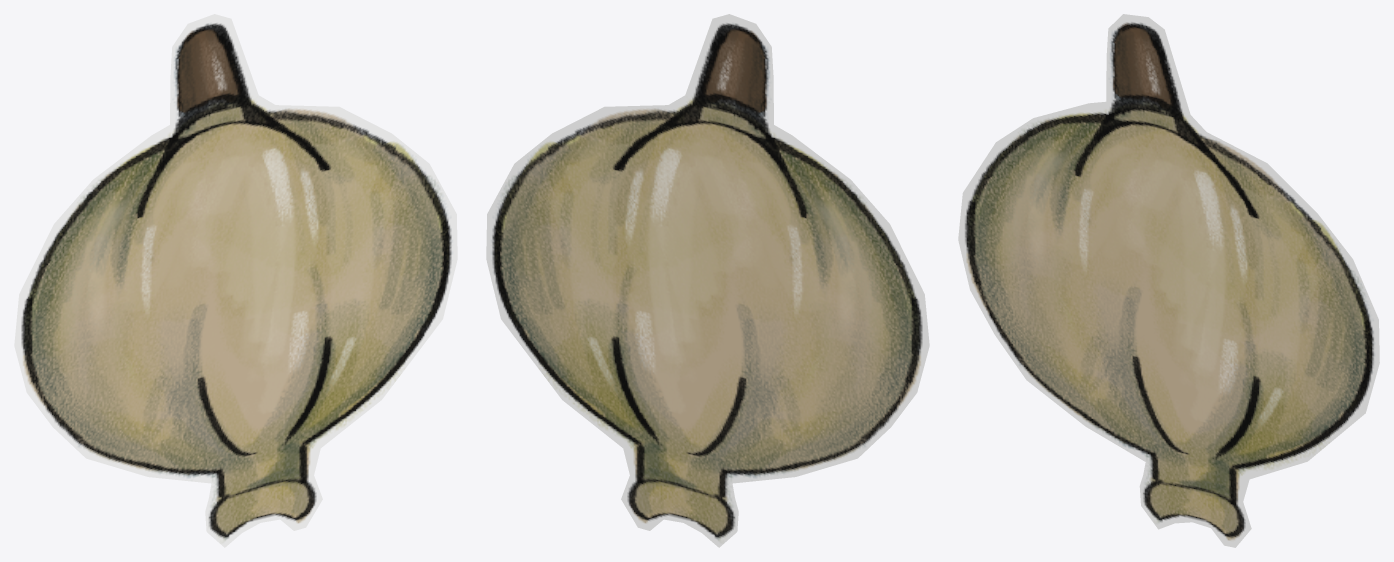
File: mech.glb
3 views of the same model, side by side, from view 1: azimuth 30°, elevation 25°; view 2: azimuth 150°, elevation 25°; view 3: azimuth 330°, elevation 25° (orthographic). The views are drawn at different scales.
Parts seen in each view (by area): view 1: Plane.012; view 2: Plane.012; view 3: Plane.012.
Part boxes in pixels (bbox=[...]): Plane.012: bbox=[14, 14, 457, 547]; Plane.012: bbox=[486, 14, 929, 547]; Plane.012: bbox=[958, 14, 1379, 547].
Size of the model in its own units: 6.76 by 7.82 by 0.
1 material, 1 textured.
